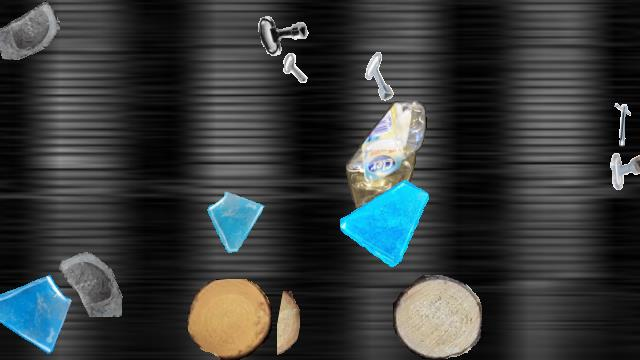glass: (340, 177, 430, 267), (0, 269, 73, 359), (49, 240, 125, 316), (204, 190, 268, 254), (0, 1, 60, 61)
metal: (251, 1, 313, 63), (357, 51, 407, 101), (259, 51, 307, 99), (601, 101, 640, 155), (608, 148, 640, 190)
plastic: (346, 101, 428, 247)
wood: (393, 275, 481, 359), (187, 279, 271, 359), (277, 291, 299, 359)
